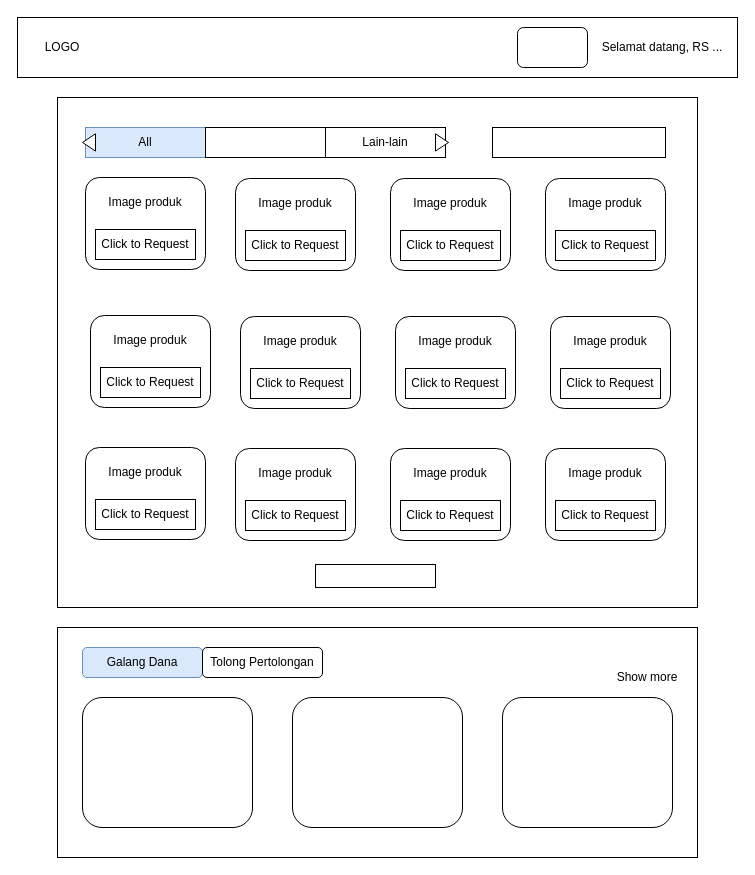
Image size: 755x875. Some labels were removed from this diagram. Each missing label, with the centre of its shape:
APD: pixel 265 142
notification: pixel 552 47
Pagination: pixel 375 576
Search: pixel 579 142
